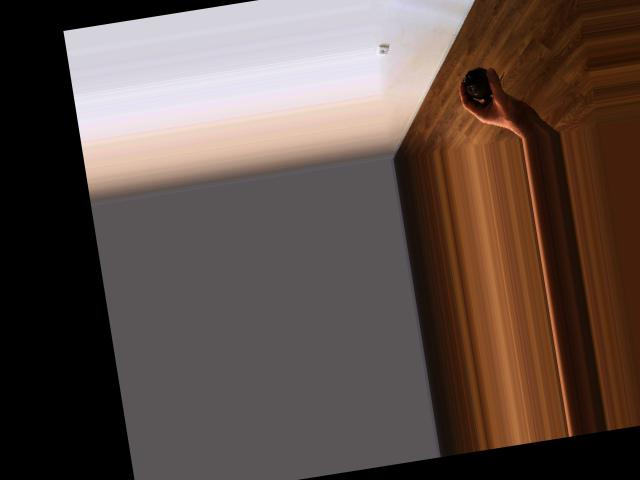beet: (461, 63, 507, 101)
